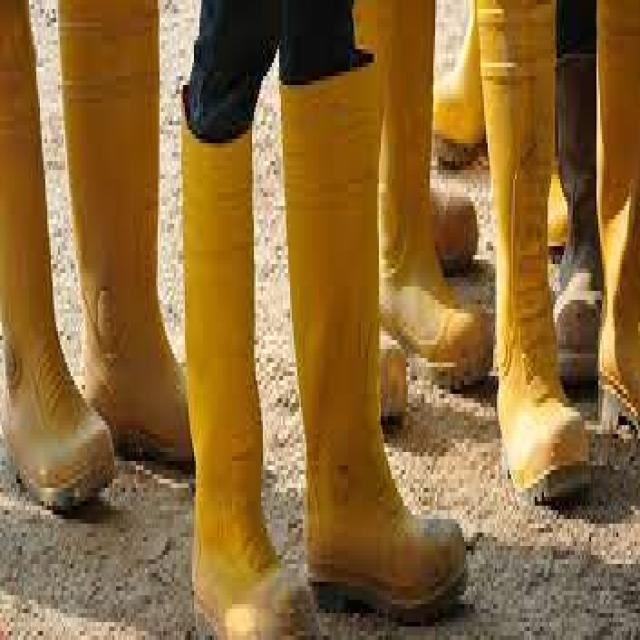shoes: (0, 0, 315, 636), (282, 2, 491, 619), (479, 0, 588, 498)
